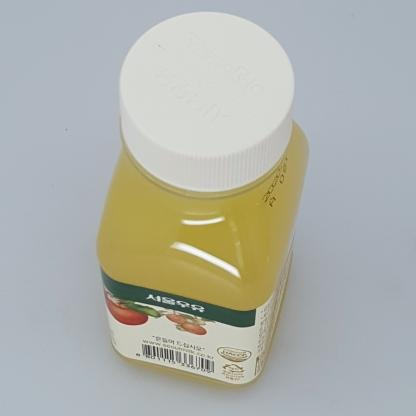-----------210ML: (97, 11, 309, 390)
